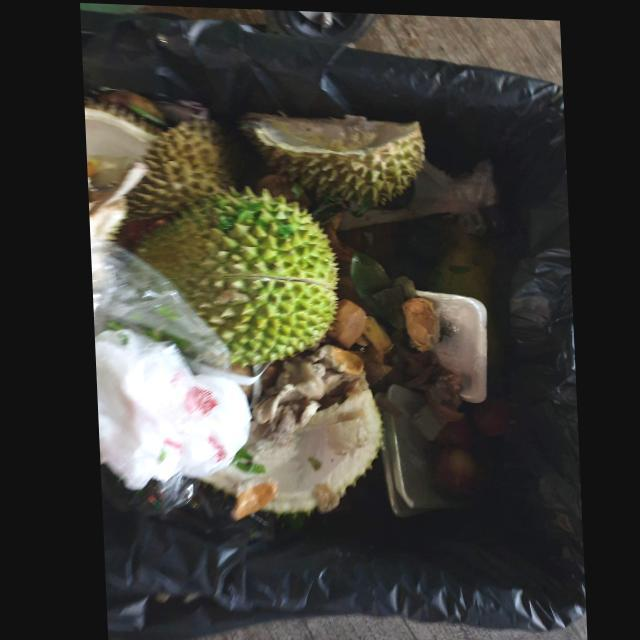left_over_food: (248, 297, 389, 422), (399, 295, 434, 346)
plastic_bag: (91, 329, 248, 490)
